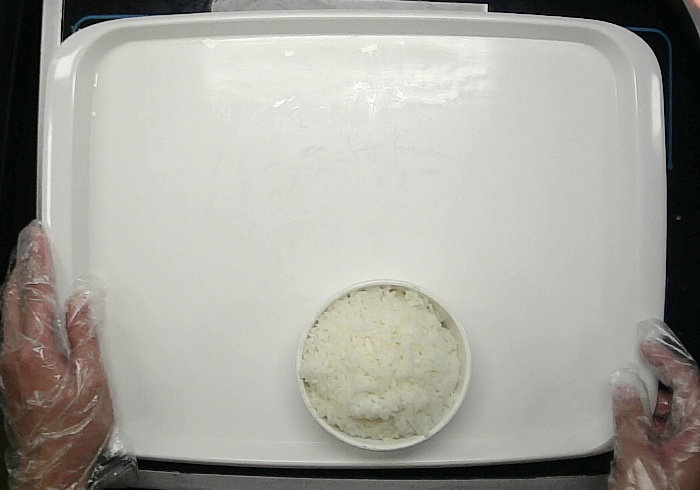HZYJPL-Fan_Wan: (293, 279, 475, 451)
